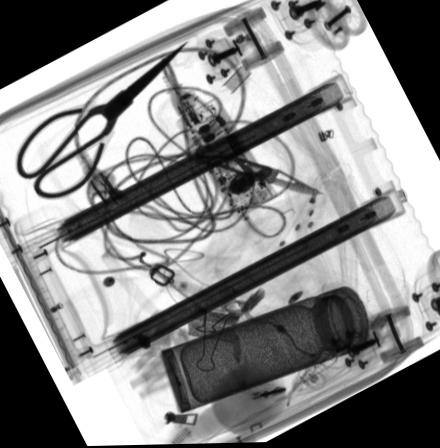Knife: (195, 146, 323, 196)
Scissors: (14, 45, 187, 200)
